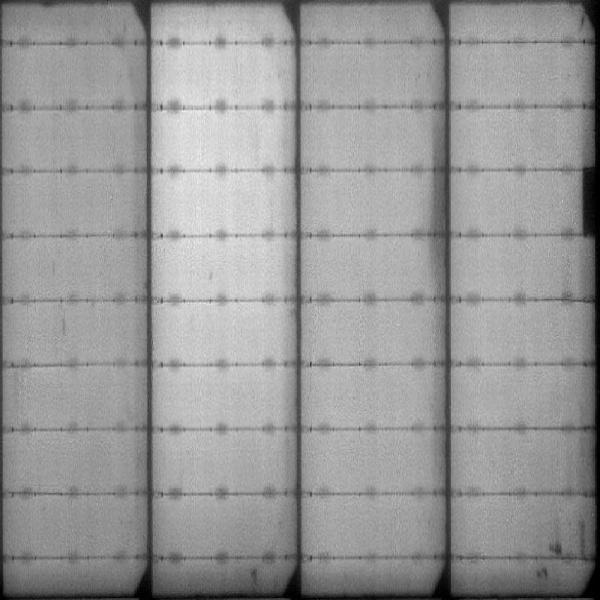black_border: (578, 161, 598, 245)
